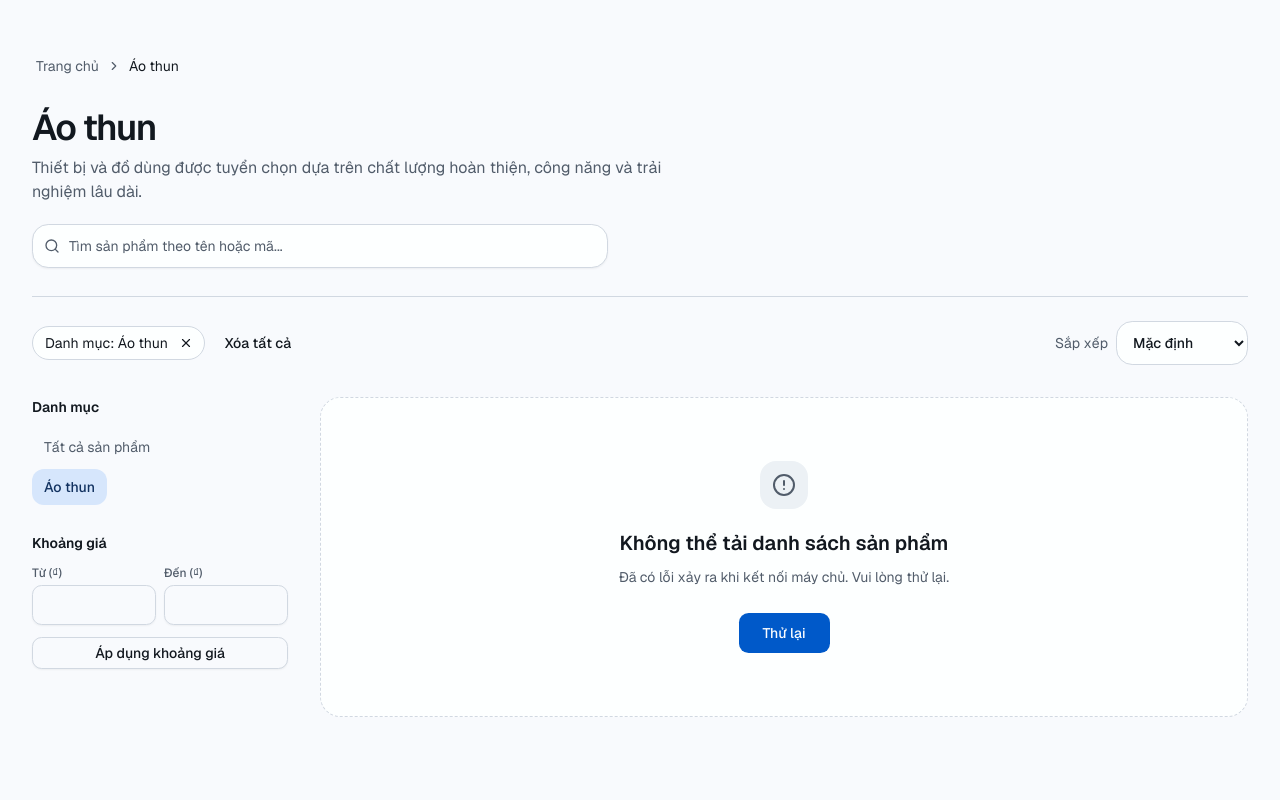
Scenario: CatalogPage integration › shows the initial error state and retries successfully, keeping the same filters
Expected: the heading "Không thể tải danh sách sản phẩm" is shown, left=619, top=529, right=949, bottom=557
Click the button "Thử lại". click: (784, 633)
box: left=738, top=613, right=830, bottom=653
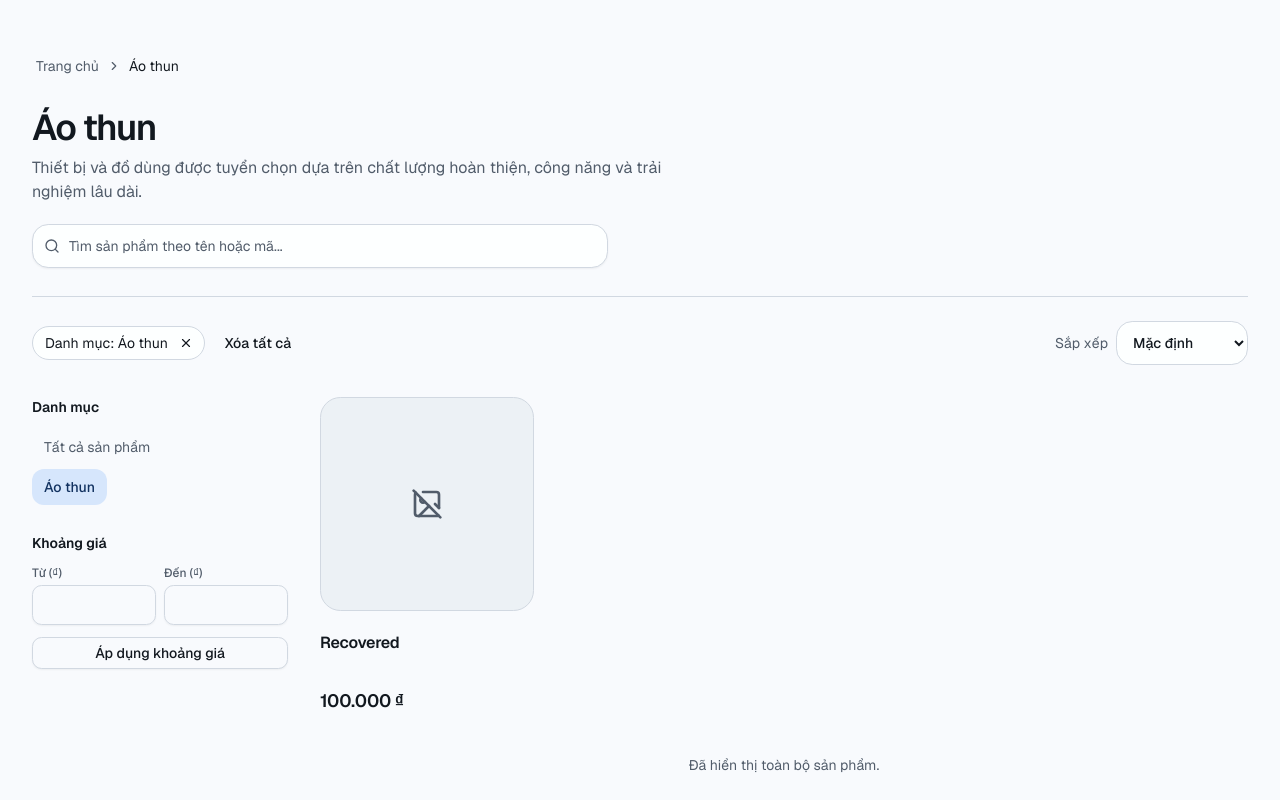
Result: the link "Recovered" is shown at left=320, top=632, right=400, bottom=653
